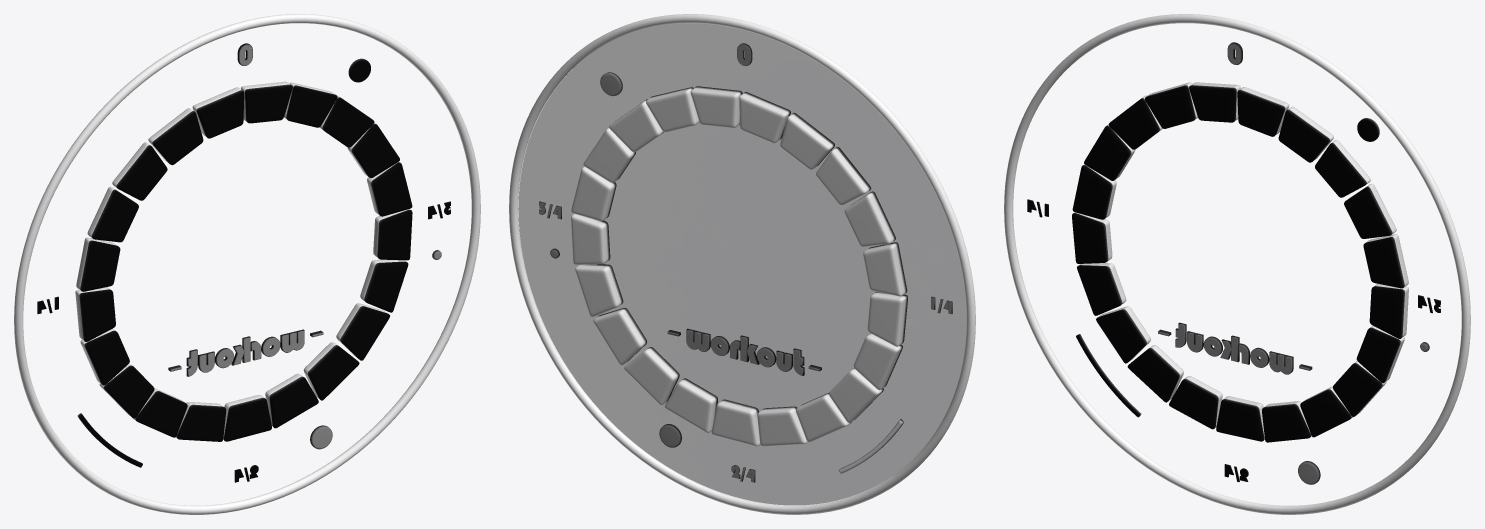
Rendered from eyepop_squats_ui_1.glb.
3 renders of one model, left to right at view 1: azimuth 30°, elevation 25°; view 2: azimuth 150°, elevation 25°; view 3: azimuth 330°, elevation 25°, orthographic.
Visible parts, largest first — view 1: bg; view 2: bg, tick_1, tick_5, tick_12, tick_15, tick_2, tick_4, tick_3, tick_13, tick_14, tick_6, tick_21 (+10 smaller); view 3: bg.
Part boxes in pixels (bbox=[...]): bg: bbox=[14, 14, 480, 514]; bg: bbox=[509, 14, 975, 514]; tick_1: bbox=[739, 93, 788, 143]; tick_5: bbox=[863, 244, 904, 296]; tick_12: bbox=[664, 380, 715, 432]; tick_15: bbox=[575, 265, 620, 317]; tick_2: bbox=[780, 114, 832, 169]; tick_4: bbox=[844, 193, 893, 246]; tick_3: bbox=[816, 148, 868, 205]; tick_13: bbox=[624, 348, 677, 405]; tick_14: bbox=[593, 309, 644, 365]; tick_6: bbox=[867, 293, 905, 346]; tick_21: bbox=[690, 88, 740, 127]; bg: bbox=[1004, 14, 1470, 514].
Size of the model in its own units: 12.41 by 12.41 by 0.5853.
2 materials, 1 textured.
